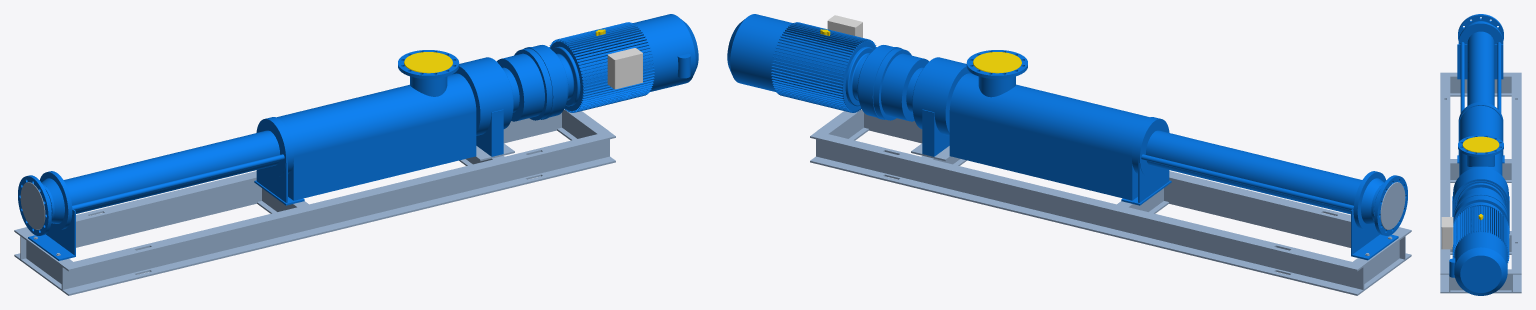
Rendered from low-pressure-pump.gltf.
The picture shows the model from 3 angles, left to right: view 1: azimuth 30°, elevation 25°; view 2: azimuth 150°, elevation 25°; view 3: azimuth 270°, elevation 25°; orthographic projection. The views are drawn at different scales.
Visible parts, largest first — view 1: 连接的实心几何图形 [220703], 连接的实心几何图形 [220747], 连接的实心几何图形 [220743], 连接的实心几何图形 [220791], 拉伸 [220334], 连接的实心几何图形 [220903], 旋转 [220982], 拉伸 [220777], 拉伸 [220966], 融合 [220283], 旋转 [220930], 融合 [220628] (+6 smaller); view 2: 连接的实心几何图形 [220703], 连接的实心几何图形 [220747], 连接的实心几何图形 [220743], 连接的实心几何图形 [220791], 拉伸 [220334], 连接的实心几何图形 [220903], 旋转 [220982], 拉伸 [220966], 融合 [220283], 旋转 [220930], 融合 [220628], 拉伸 [220280] (+6 smaller); view 3: 连接的实心几何图形 [220703], 连接的实心几何图形 [220743], 融合 [220322], 连接的实心几何图形 [220747], 连接的实心几何图形 [220791], 拉伸 [220334], 连接的实心几何图形 [220903], 融合 [220628], 旋转 [220930], 拉伸 [220713], 拉伸 [220777], 拉伸 [220625] (+9 smaller).
Boxes of the visible parts, x1,y1,x2,y2 form: 连接的实心几何图形 [220703]: [14, 113, 615, 295]; 连接的实心几何图形 [220747]: [276, 73, 476, 200]; 连接的实心几何图形 [220743]: [28, 117, 304, 260]; 连接的实心几何图形 [220791]: [550, 14, 695, 110]; 拉伸 [220334]: [549, 22, 654, 112]; 连接的实心几何图形 [220903]: [453, 57, 512, 156]; 旋转 [220982]: [497, 53, 544, 121]; 拉伸 [220777]: [607, 48, 642, 89]; 拉伸 [220966]: [557, 109, 608, 140]; 融合 [220283]: [20, 182, 45, 229]; 旋转 [220930]: [532, 45, 566, 117]; 融合 [220628]: [404, 52, 452, 73]; 连接的实心几何图形 [220703]: [810, 113, 1411, 295]; 连接的实心几何图形 [220747]: [949, 73, 1149, 200]; 连接的实心几何图形 [220743]: [1121, 117, 1398, 260]; 连接的实心几何图形 [220791]: [730, 14, 875, 110]; 拉伸 [220334]: [771, 22, 876, 112]; 连接的实心几何图形 [220903]: [913, 57, 972, 156]; 旋转 [220982]: [881, 53, 928, 121]; 拉伸 [220966]: [817, 109, 868, 140]; 融合 [220283]: [1380, 182, 1405, 229]; 旋转 [220930]: [859, 45, 893, 117]; 融合 [220628]: [973, 52, 1021, 73]; 拉伸 [220280]: [1374, 175, 1407, 235]; 连接的实心几何图形 [220703]: [1440, 72, 1521, 293]; 连接的实心几何图形 [220743]: [1457, 22, 1504, 163]; 融合 [220322]: [1454, 247, 1507, 295]; 连接的实心几何图形 [220747]: [1459, 105, 1502, 175]; 连接的实心几何图形 [220791]: [1449, 206, 1507, 277]; 拉伸 [220334]: [1452, 205, 1509, 262]; 连接的实心几何图形 [220903]: [1452, 167, 1509, 233]; 融合 [220628]: [1462, 136, 1499, 152]; 旋转 [220930]: [1453, 195, 1508, 223]; 拉伸 [220713]: [1450, 159, 1511, 182]; 拉伸 [220777]: [1441, 217, 1453, 249]; 拉伸 [220625]: [1458, 135, 1503, 156].
Size of the model in its own units: 4.17 by 0.7302 by 0.6.
